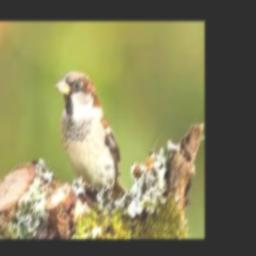Sparrow: (55, 71, 128, 201)
